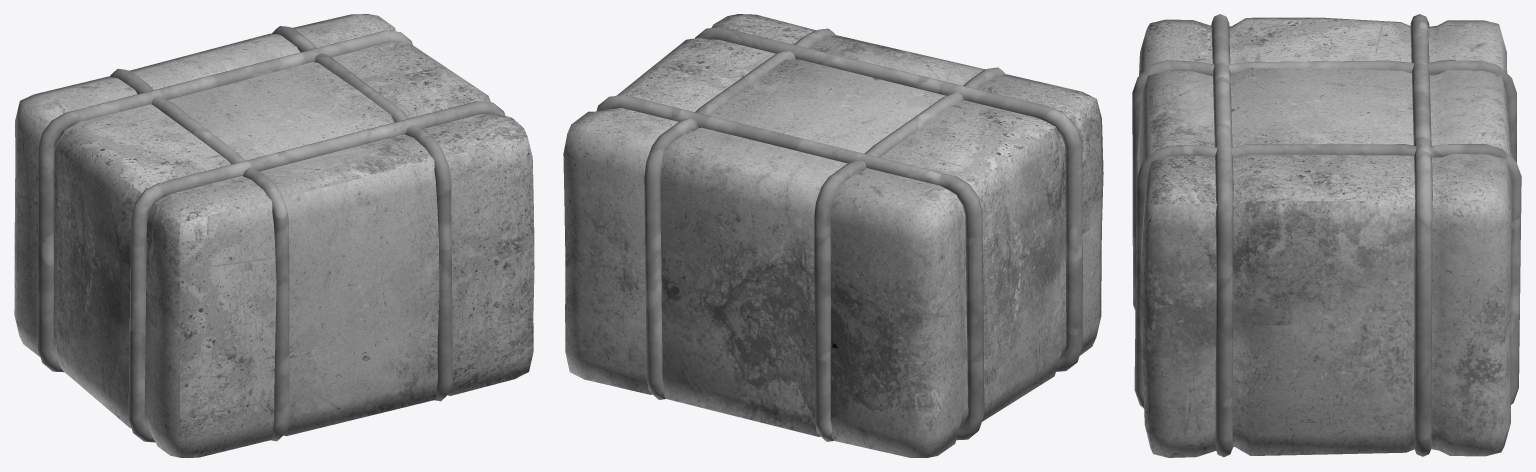
The model's file is SM_StrawBales_01a.fbx.
The picture shows the model from 3 angles, left to right: view 1: azimuth 30°, elevation 25°; view 2: azimuth 150°, elevation 25°; view 3: azimuth 270°, elevation 25°; orthographic projection. The views are drawn at different scales.
Parts seen in each view (by area): view 1: SM_StrawBales_01a_LOD0; view 2: SM_StrawBales_01a_LOD0; view 3: SM_StrawBales_01a_LOD0.
Boxes of the visible parts, x1,y1,x2,y2 form: SM_StrawBales_01a_LOD0: [14, 14, 534, 457]; SM_StrawBales_01a_LOD0: [563, 14, 1103, 457]; SM_StrawBales_01a_LOD0: [1132, 14, 1521, 457].
Size of the model in its own units: 88.61 by 73.58 by 58.2.
